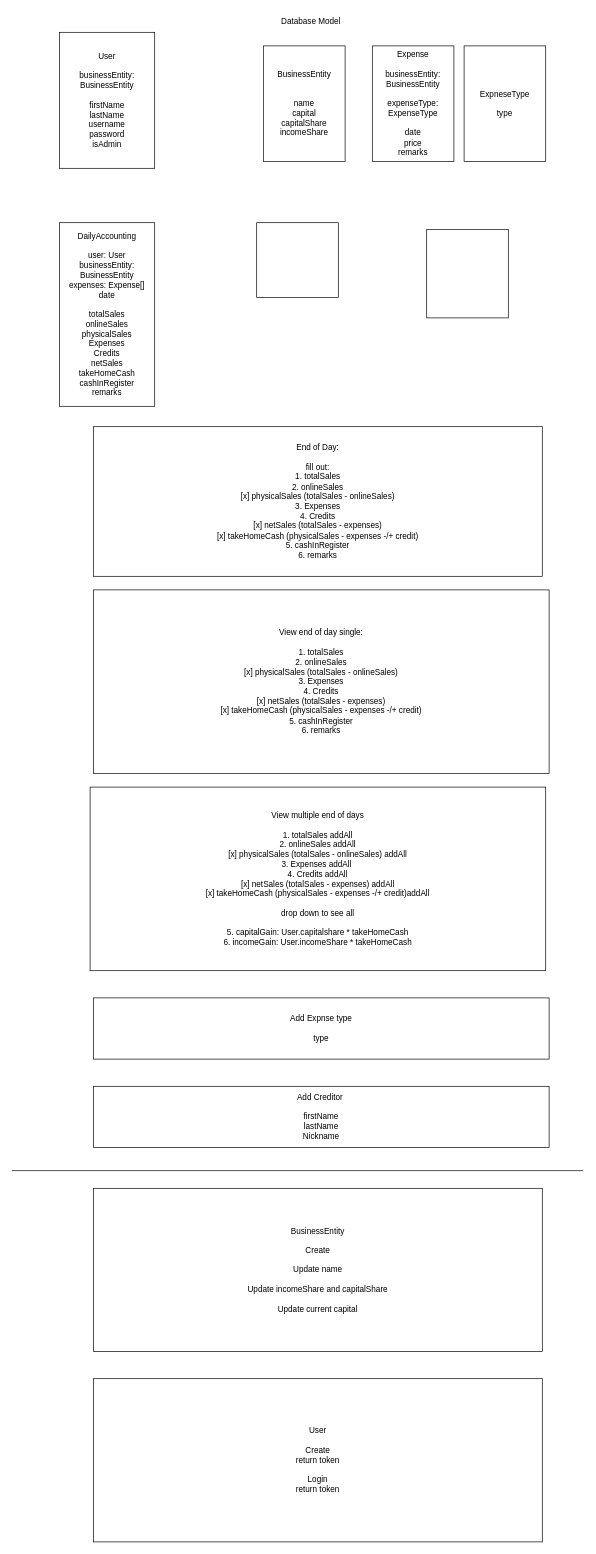
Image size: 596x1554. Some labels were removed from this diagram. Here are the shapes that lost their labels. From the top down, the box of each, then its label:
(256, 222, 338, 298): Credit creditor: Creditor date remark amount
(426, 229, 508, 318): Creditor firstName lastName nickName wholeName balance
